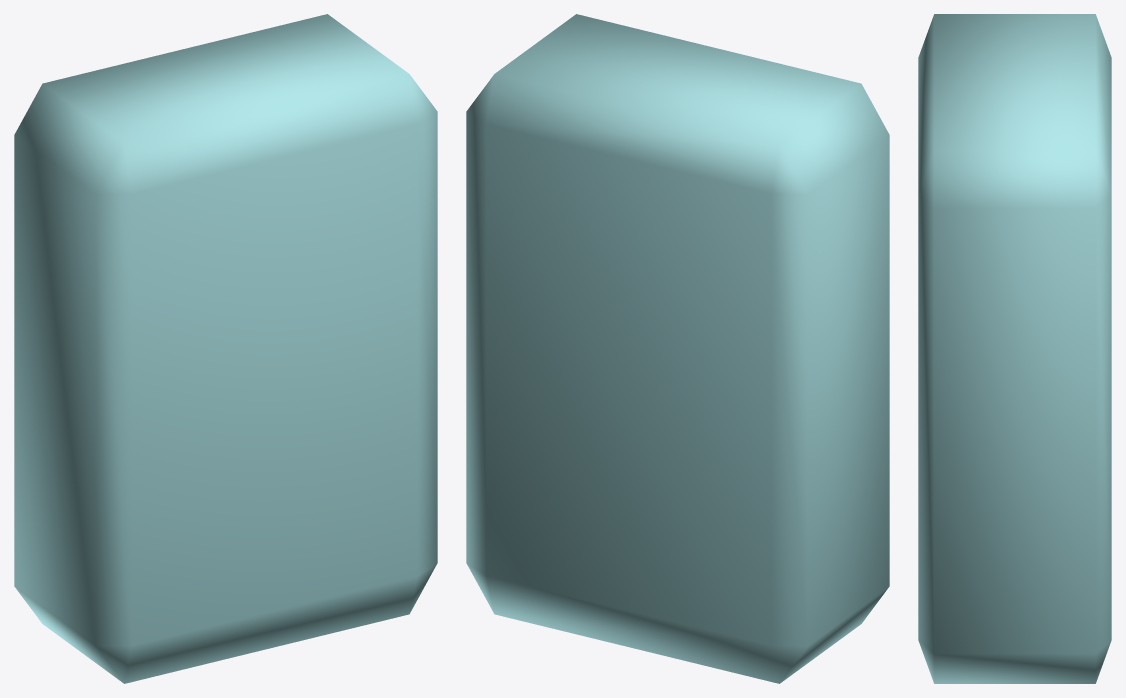
File: Zucchero_500g.fbx
3 views of the same model, side by side, from view 1: azimuth 30°, elevation 25°; view 2: azimuth 150°, elevation 25°; view 3: azimuth 270°, elevation 25° (orthographic).
Parts seen in each view (by area): view 1: Zucchero_1/2; view 2: Zucchero_1/2; view 3: Zucchero_1/2.
Part boxes in pixels (<box>): Zucchero_1/2: <box>14,14,437,683</box>; Zucchero_1/2: <box>466,14,889,683</box>; Zucchero_1/2: <box>918,14,1111,683</box>.
Size of the model in its own units: 15.87 by 24.01 by 7.9.
